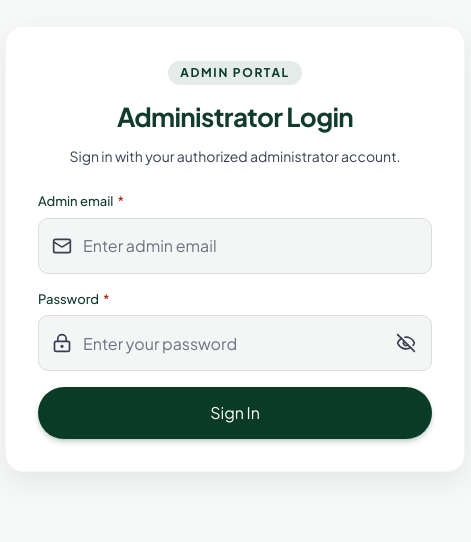
it: admin authentication › uses generic errors and exposes rate-limit recovery without enumeration
In the field labelled "Admin email*": (235, 246) [38,218,432,274], type "missing@feasta.test"
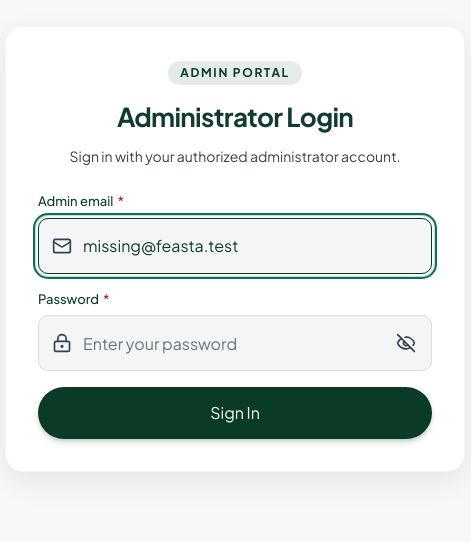
In the password field labelled "Password*": (235, 343) [38,315,432,371], type "wrongpass"
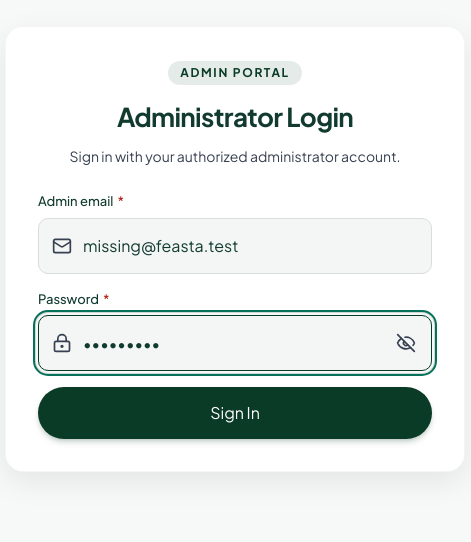
Click the button with aria-label "sign in as admin": (235, 413) [38,387,432,439]
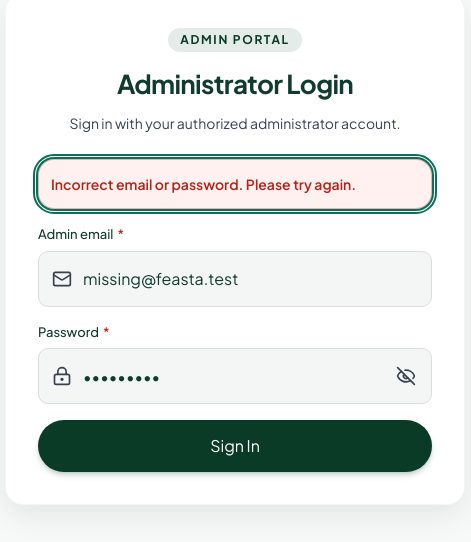
Now the message reads "Incorrect email or password. Please try again.", box [51,175,356,193]
Click the button with aria-label "sign in as admin": (235, 446) [38,420,432,472]
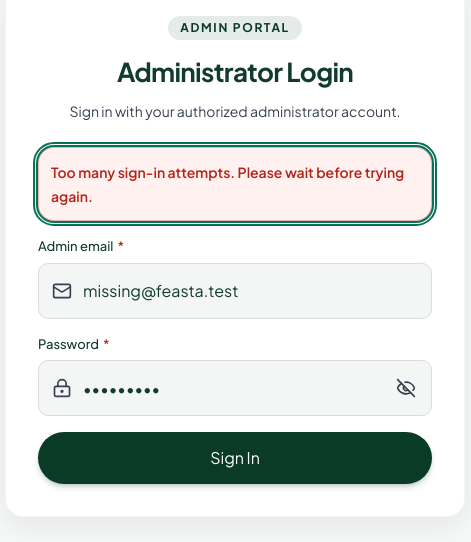
Now the message shows "Too many sign-in attempts", box [51,163,404,205]
